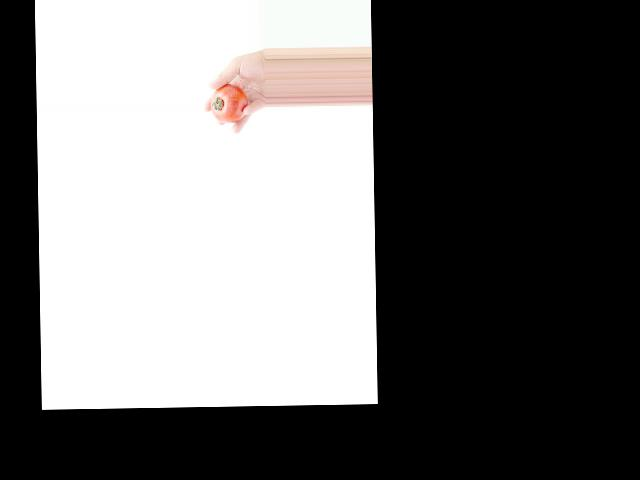tomato: (210, 84, 248, 124)
